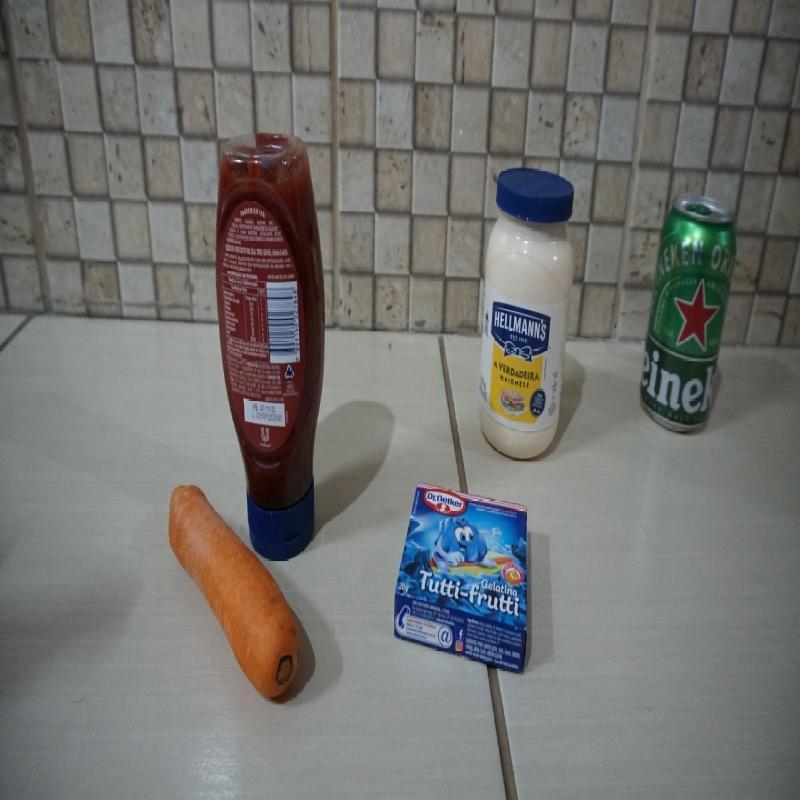Beer can: (637, 195, 736, 431)
Carrot: (168, 484, 300, 704)
Gelatine: (391, 480, 530, 672)
Ketchup: (215, 133, 326, 558)
Mayonnaise: (476, 170, 576, 460)
